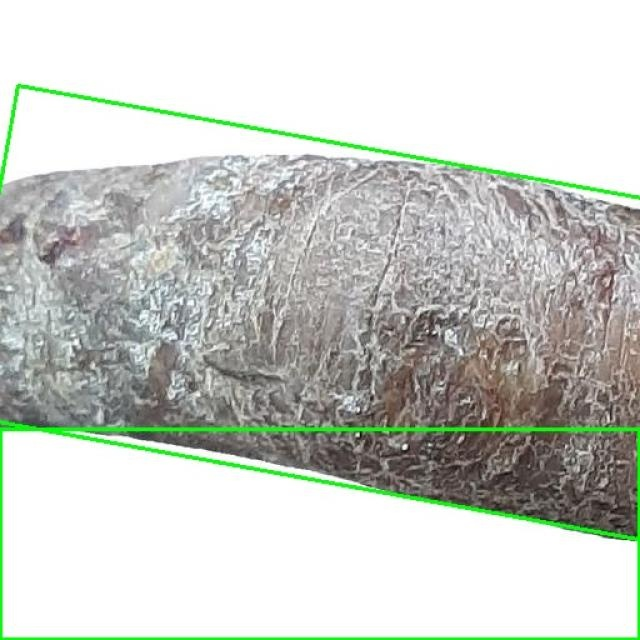Eczema: (0, 85, 640, 540), (0, 429, 639, 639)
